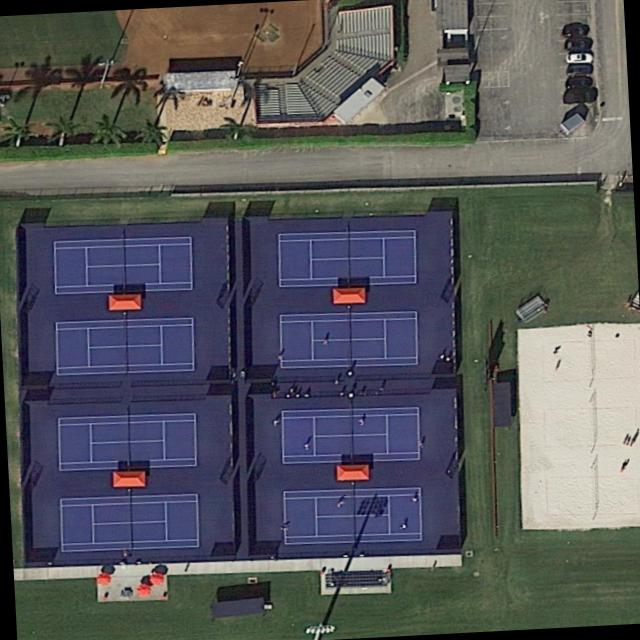small-vehicle: (564, 64, 592, 78), (562, 91, 592, 104), (561, 39, 589, 52), (563, 52, 592, 64), (560, 25, 588, 37), (565, 77, 591, 89)
